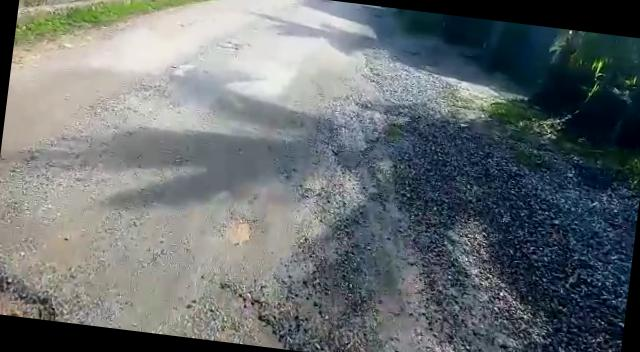pothole: (0, 251, 78, 322)
